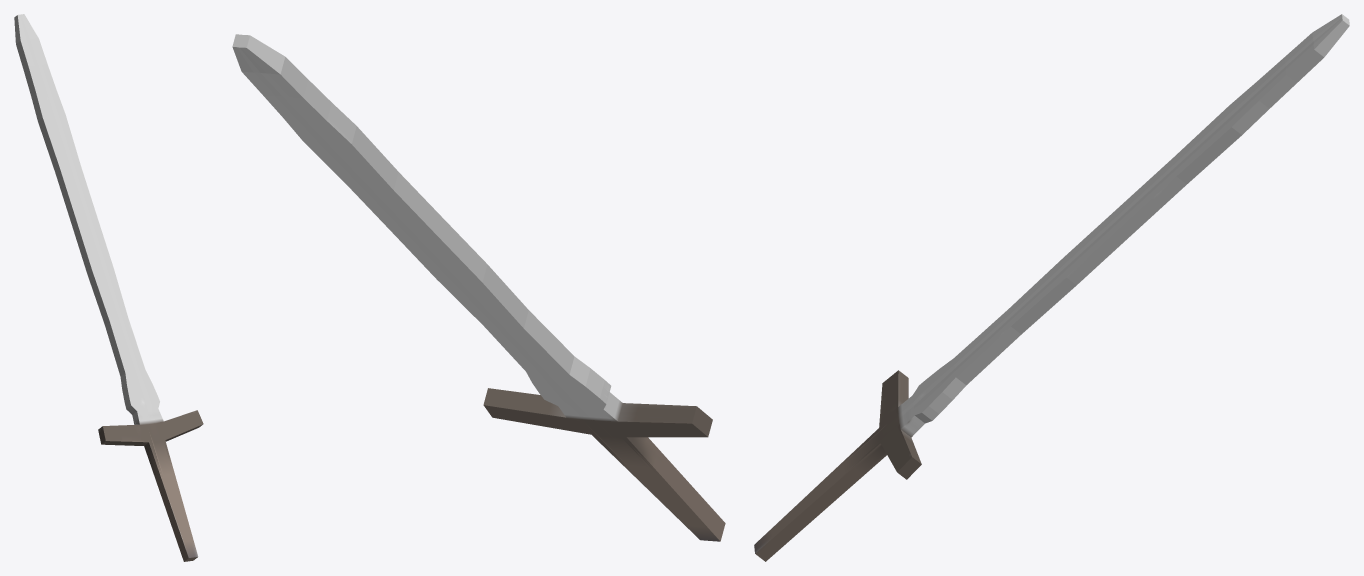
File: sword_000098.obj
3 renders of one model, left to right at view 1: azimuth 30°, elevation 25°; view 2: azimuth 150°, elevation 25°; view 3: azimuth 270°, elevation 25°, orthographic. The views are drawn at different scales.
Size of the model in its own units: 0.1419 by 0.5126 by 0.4896.
